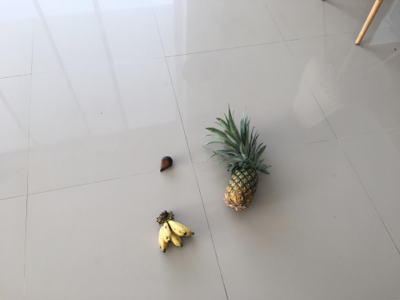banana: (156, 211, 195, 255)
pineapple: (205, 105, 271, 212)
snake fruit: (159, 156, 173, 174)
